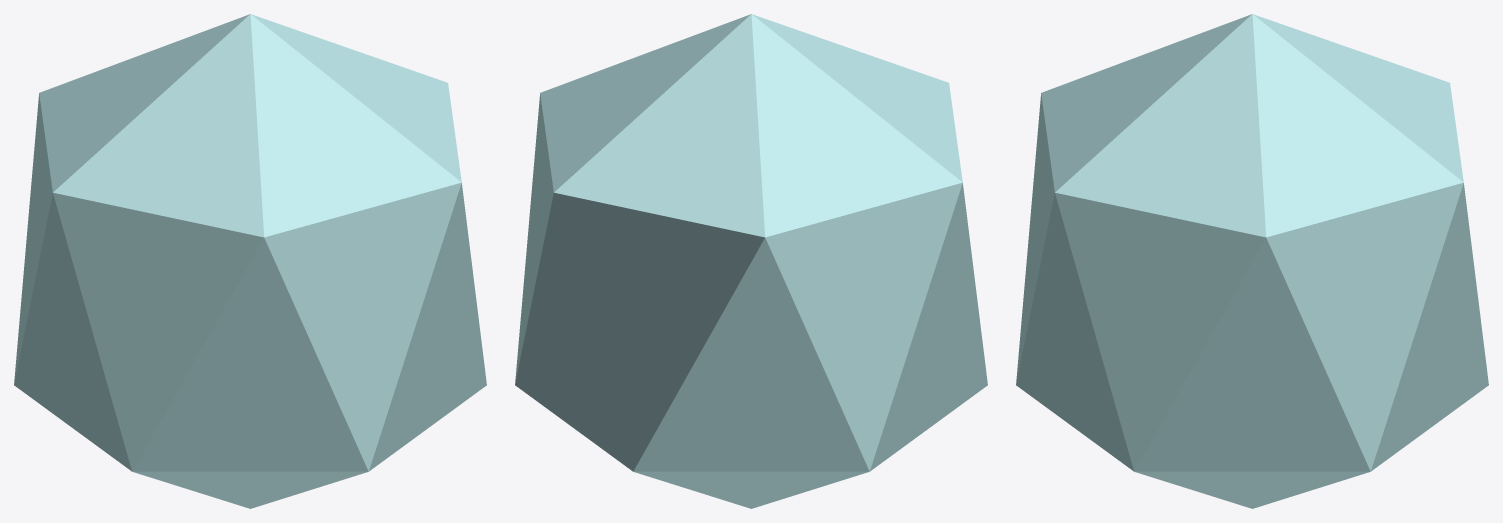
The model's file is Modé_Gemme_Raffine_Bleu.FBX.
The picture shows the model from 3 angles, left to right: view 1: azimuth 30°, elevation 25°; view 2: azimuth 150°, elevation 25°; view 3: azimuth 270°, elevation 25°; orthographic projection.
Parts seen in each view (by area): view 1: Gemme raffiné bleu; view 2: Gemme raffiné bleu; view 3: Gemme raffiné bleu.
Boxes of the visible parts, x1,y1,x2,y2 form: Gemme raffiné bleu: [14, 14, 486, 508]; Gemme raffiné bleu: [515, 14, 987, 508]; Gemme raffiné bleu: [1016, 14, 1488, 508].
Size of the model in its own units: 24.54 by 28.38 by 24.58.
